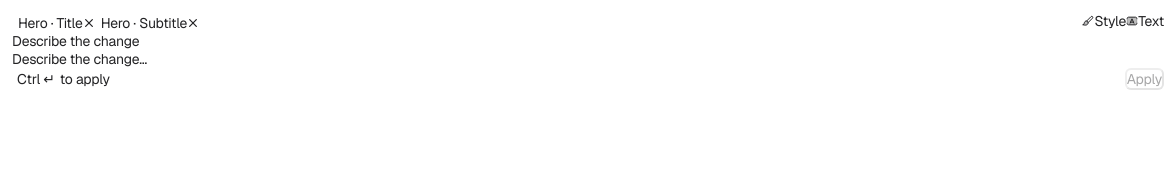
Composer › multi : une puce par élément, ✕ retire l’élément (retour à empty au dernier)
The image size is (1176, 172).
Expected: the number of list items is 2, [12,12,95,32]; [95,12,199,32]
Click the button named "Remove Hero · Subtitle" at (193, 23), box [187,17,199,29]
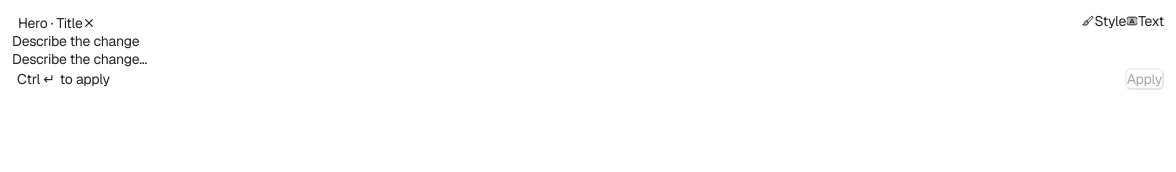
Expected: the number of list items is 1, [12,12,95,32]
Click the button named "Remove Hero · Title" at (89, 23), box [83,17,95,29]
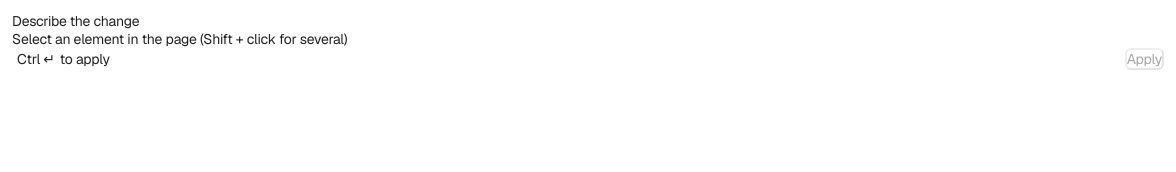
Expected: the text box is disabled, [12,30,1164,48]
